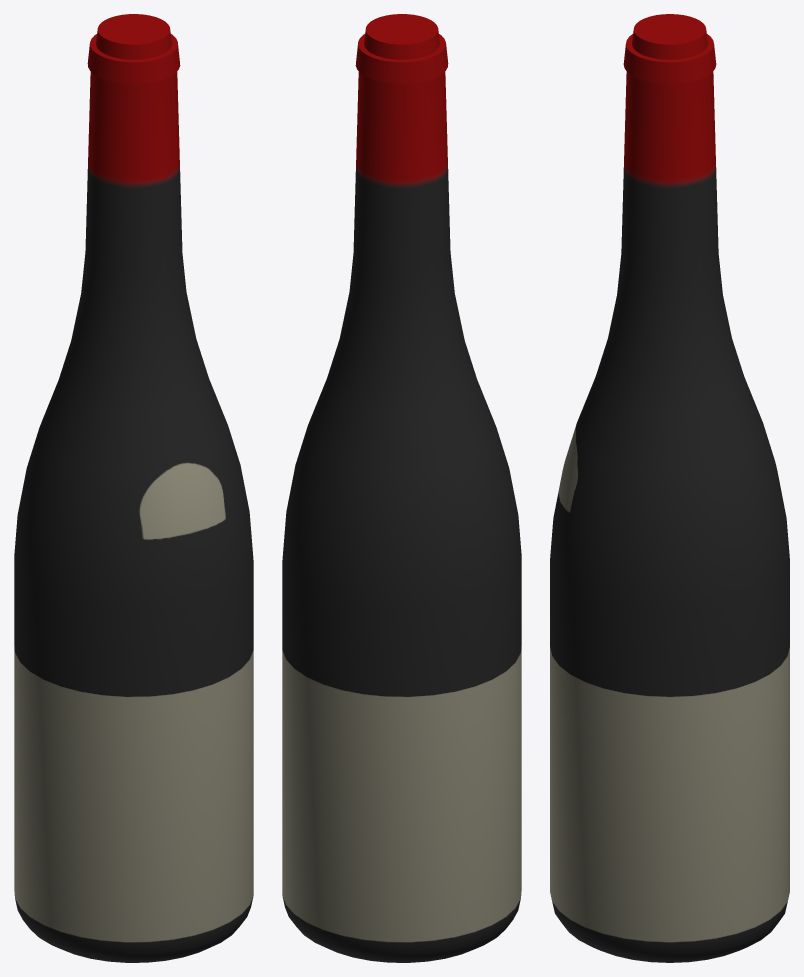
Rendered from wine_bottle.glb.
3 views of the same model, side by side, from view 1: azimuth 30°, elevation 25°; view 2: azimuth 150°, elevation 25°; view 3: azimuth 270°, elevation 25° (orthographic).
Visible parts, largest first — view 1: Cube; view 2: Cube; view 3: Cube.
Part boxes in pixels (x1,y1,x2,y2): Cube: [14, 14, 253, 962]; Cube: [282, 14, 521, 962]; Cube: [550, 14, 789, 962].
Bounding box in the file's own units: 1.14 × 4.68 × 1.14.
Materials: 1 (1 with a texture image).
